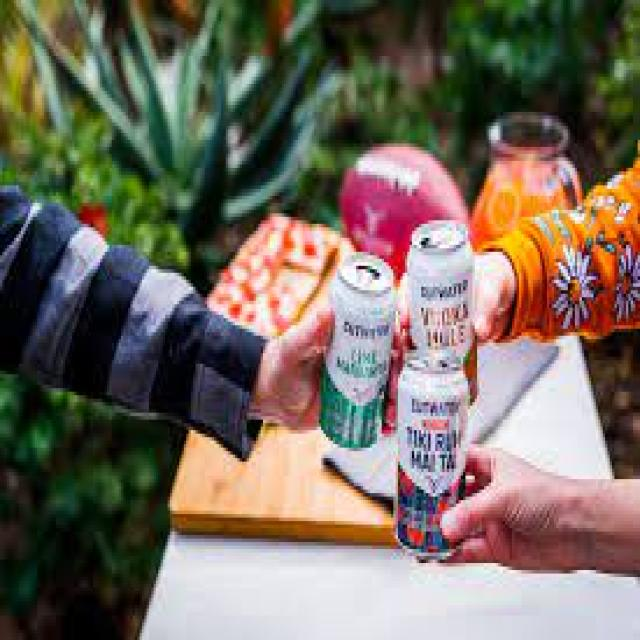Cans: (396, 339, 477, 574), (319, 252, 398, 454), (408, 217, 480, 371)
